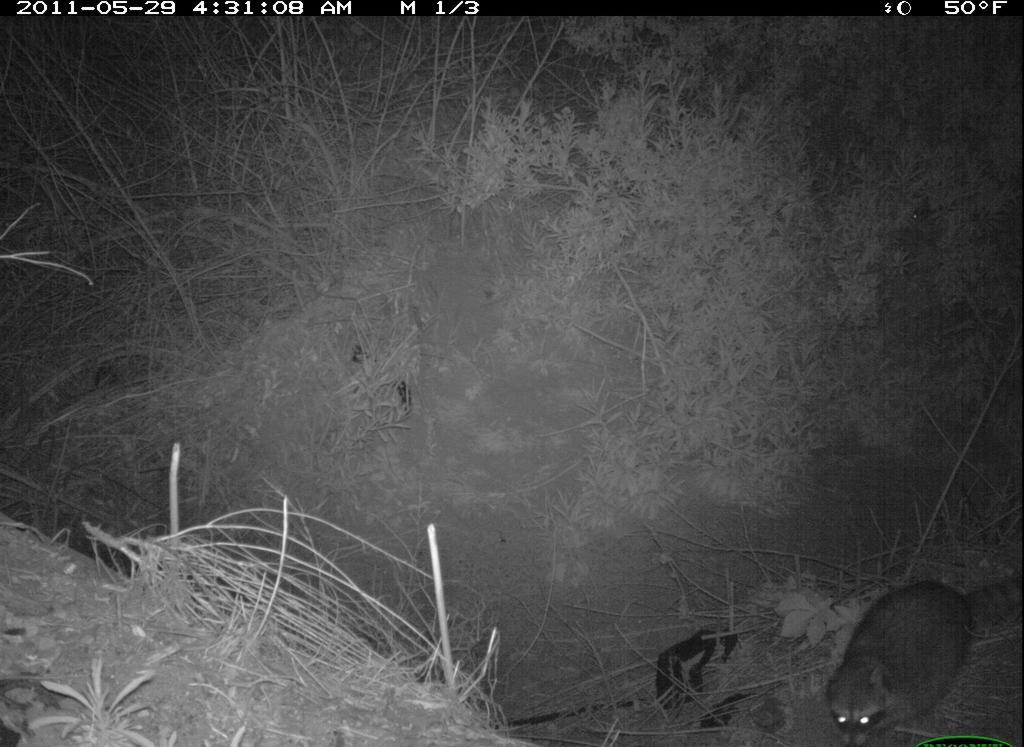raccoon: (818, 559, 1020, 747)
